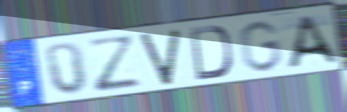0: (45, 41, 89, 98)
A: (285, 13, 340, 71)
D: (188, 24, 235, 82)
G: (237, 18, 284, 74)
V: (138, 26, 182, 87)
Z: (85, 34, 144, 96)
